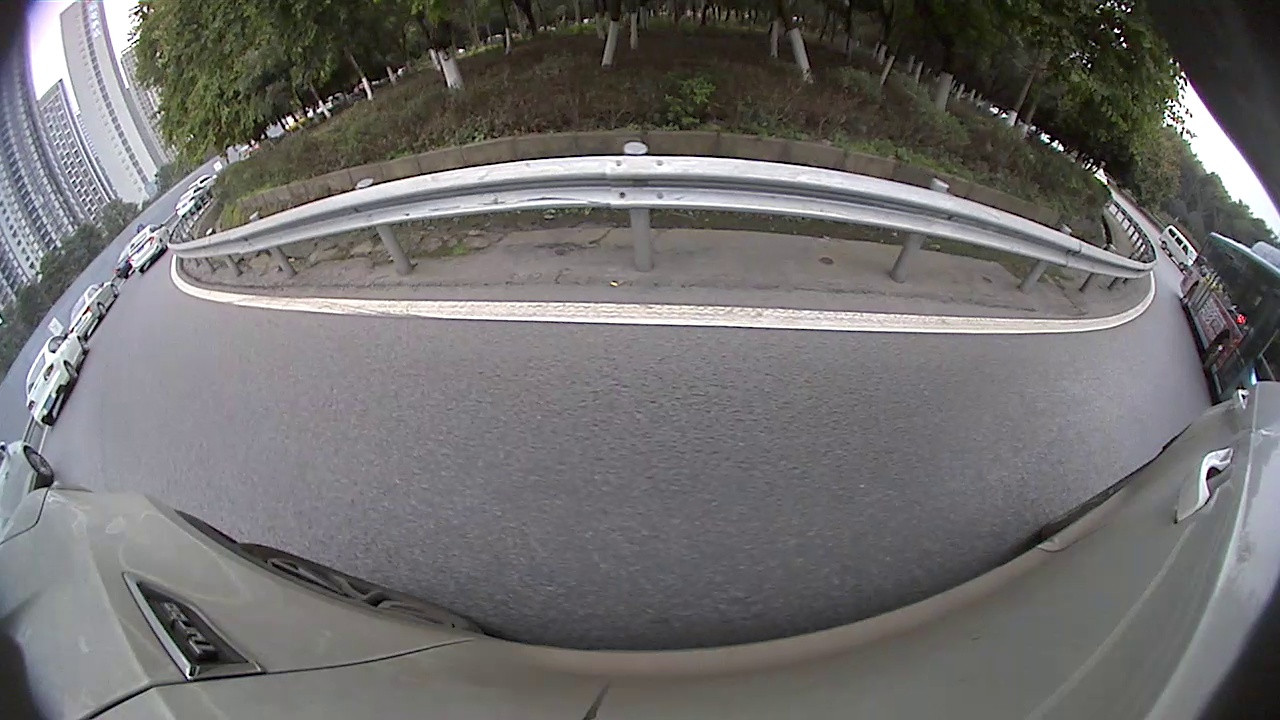bus: (1177, 225, 1279, 404)
car: (20, 331, 92, 426), (1, 436, 63, 528), (120, 215, 175, 274), (69, 278, 124, 336), (1159, 219, 1202, 270)
front: (1200, 334, 1232, 371), (21, 445, 56, 478), (77, 336, 92, 354)
rear: (1180, 281, 1199, 309), (64, 363, 78, 381), (95, 302, 109, 316)
